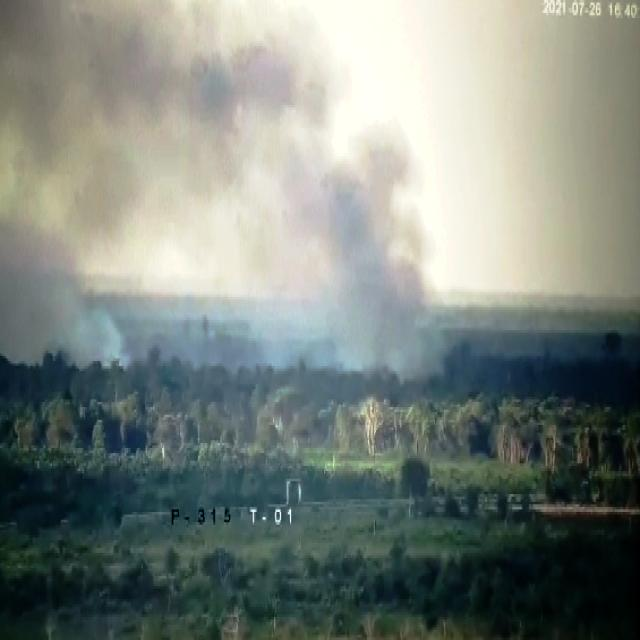asap: (1, 1, 454, 403), (1, 185, 141, 382)
